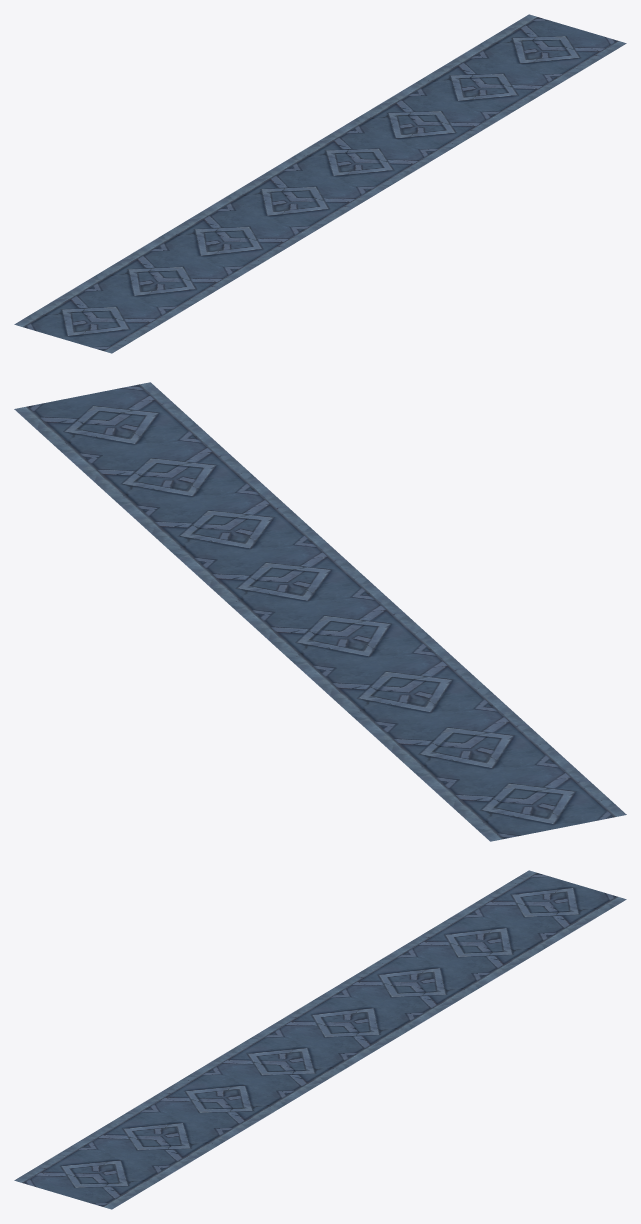
File: Area_10_5.fbx
3 views of the same model, one above another, from view 1: azimuth 90°, elevation 25°; view 2: azimuth 150°, elevation 25°; view 3: azimuth 270°, elevation 25° (orthographic). The views are drawn at different scales.
Parts seen in each view (by area): view 1: Area_10_5; view 2: Area_10_5; view 3: Area_10_5.
Part boxes in pixels (<box>): Area_10_5: <box>14,14,626,353</box>; Area_10_5: <box>14,382,626,841</box>; Area_10_5: <box>14,870,626,1209</box>.
Bounding box in the file's own units: 4206 × 0.0755 × 3211.
1 material, 1 textured.
